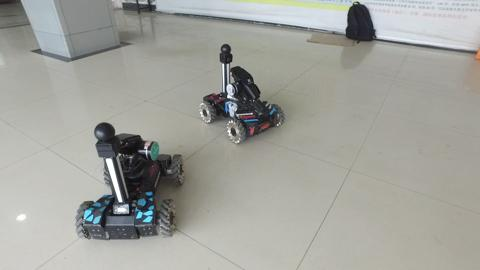chariot: (72, 119, 187, 241), (193, 41, 288, 151)
